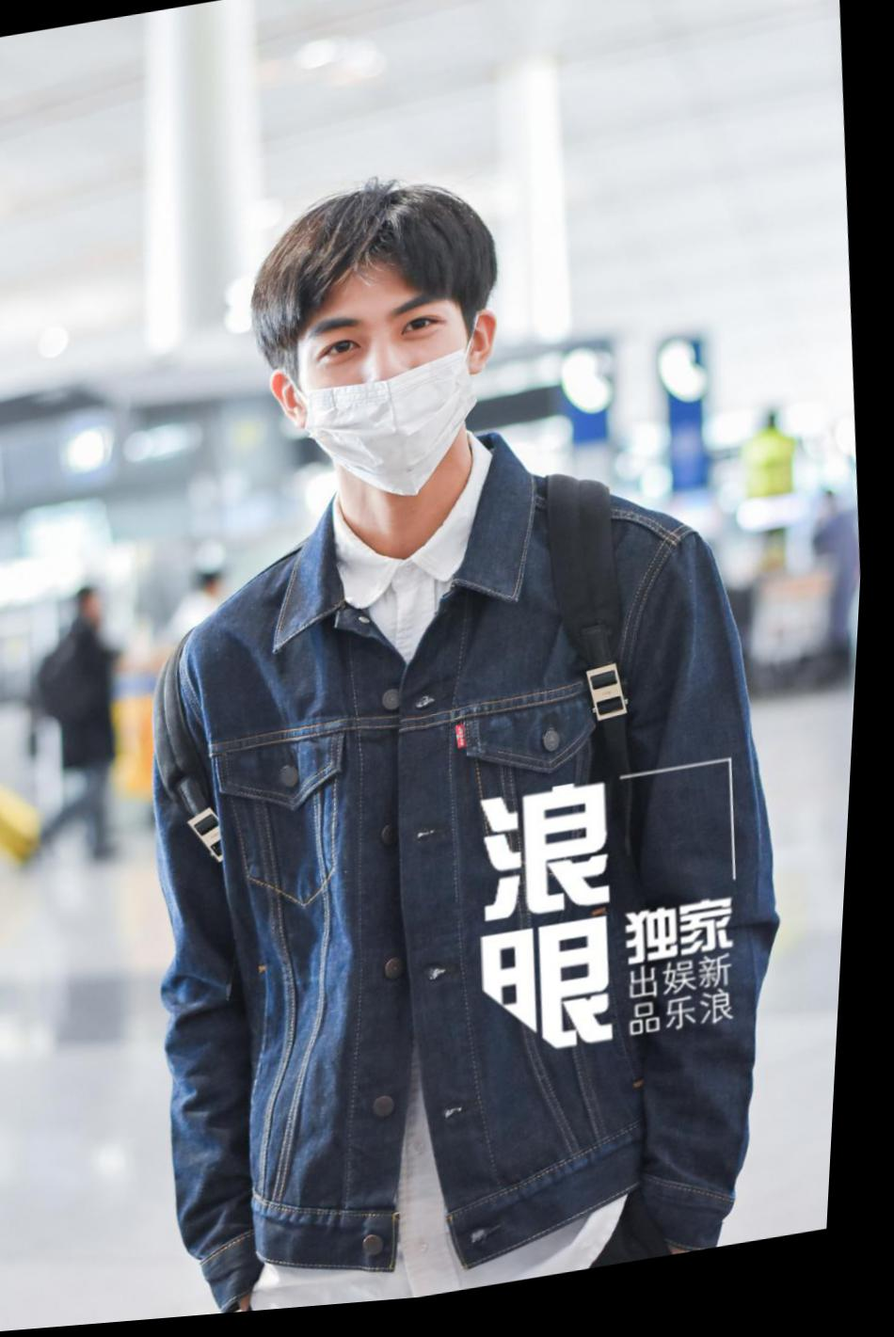WRONG: (289, 271, 488, 520)
